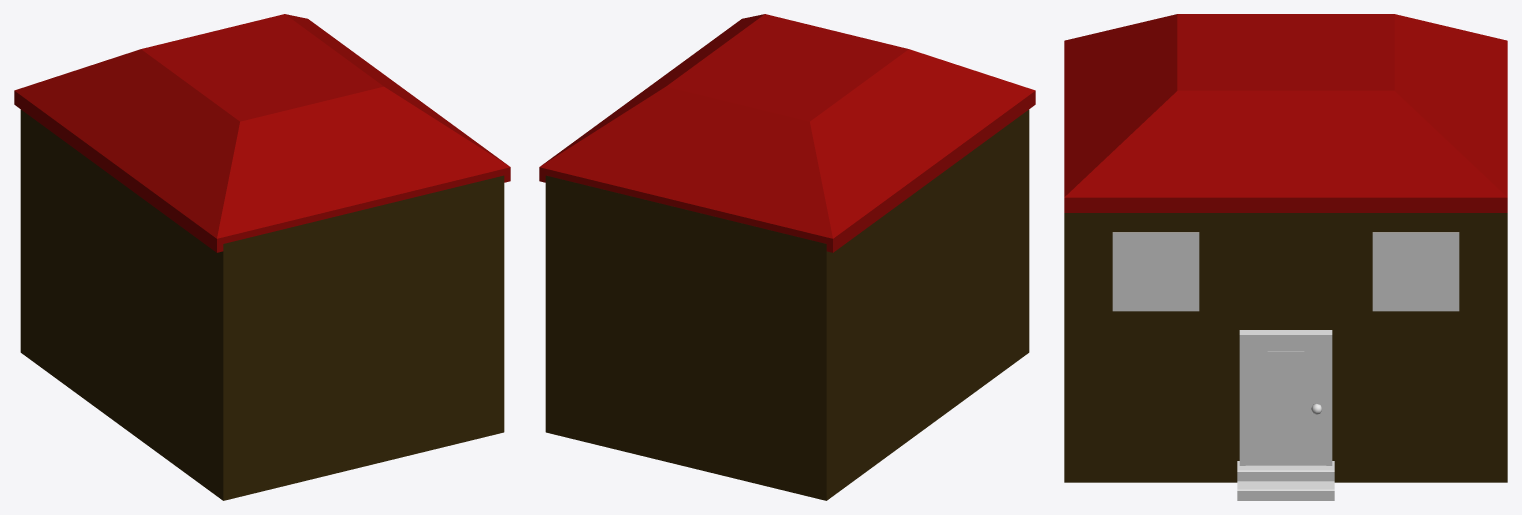
Rendered from Huis9.fbx.
The picture shows the model from 3 angles, left to right: view 1: azimuth 30°, elevation 25°; view 2: azimuth 150°, elevation 25°; view 3: azimuth 270°, elevation 25°; orthographic projection. The views are drawn at different scales.
Visible parts, largest first — view 1: Cube.055, Cube.062; view 2: Cube.055, Cube.062; view 3: Cube.055, Cube.062, Cube.058, Plane.016, Plane.018, Cube.057, Cube.056, Plane.017.
Boxes of the visible parts, left/top/right/bottom form: Cube.055: left=20, top=109, right=504, bottom=500; Cube.062: left=14, top=14, right=510, bottom=252; Cube.055: left=545, top=109, right=1029, bottom=500; Cube.062: left=539, top=14, right=1035, bottom=252; Cube.055: left=1064, top=213, right=1507, bottom=482; Cube.062: left=1064, top=14, right=1507, bottom=212; Cube.058: left=1245, top=339, right=1326, bottom=465; Plane.016: left=1112, top=232, right=1199, bottom=311; Plane.018: left=1372, top=232, right=1459, bottom=311; Cube.057: left=1237, top=461, right=1334, bottom=500; Cube.056: left=1239, top=330, right=1332, bottom=465; Plane.017: left=1267, top=351, right=1304, bottom=384.
Bounding box in the file's own units: 183 × 177 × 200.
